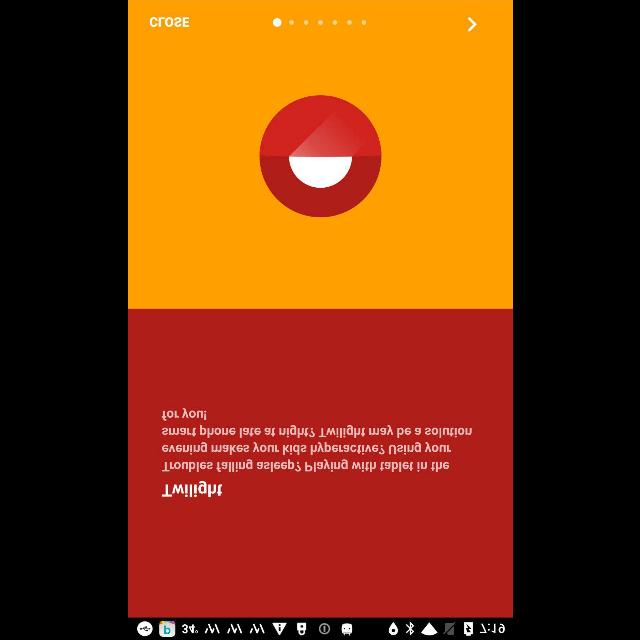icon: (466, 16, 476, 32)
image: (258, 95, 380, 217)
pageindicator: (272, 17, 366, 27)
text: (160, 408, 472, 472), (162, 480, 222, 498), (149, 17, 189, 27)
uppertaskbar: (128, 617, 512, 639)
